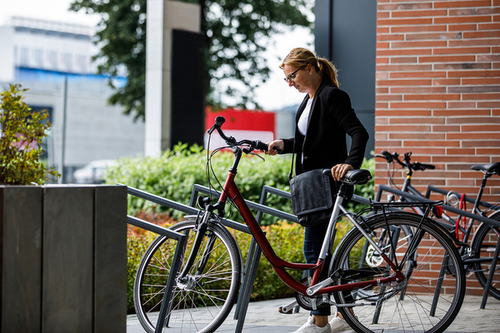bikerider: (136, 39, 468, 326)
